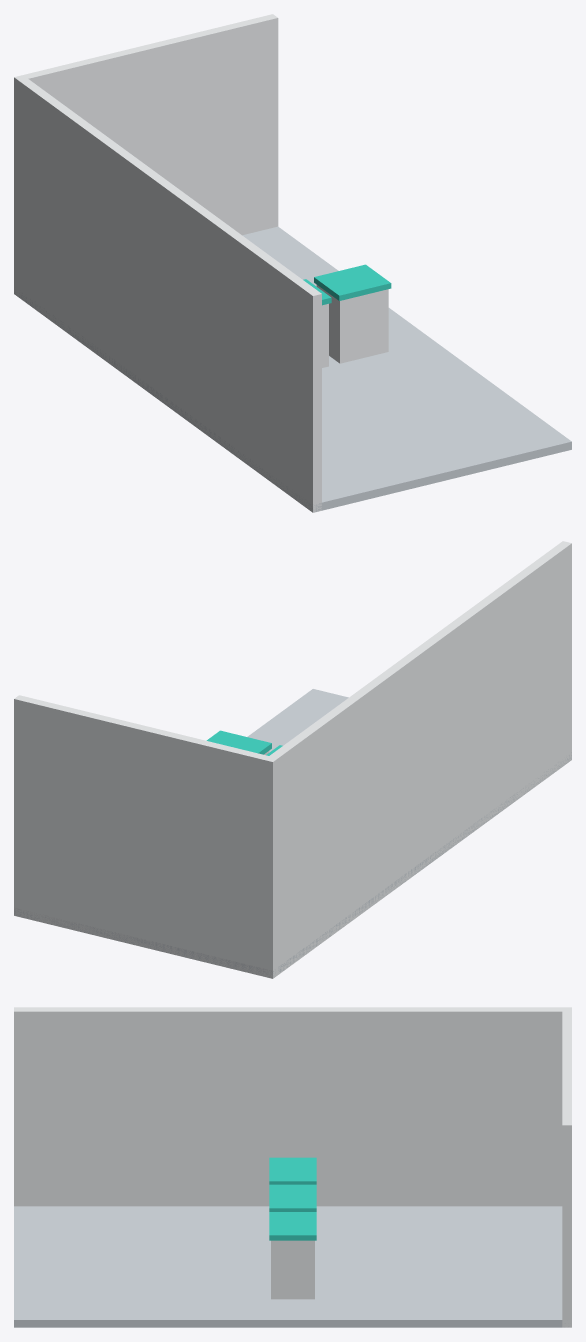
3 views of the same model, one above another, from view 1: azimuth 30°, elevation 25°; view 2: azimuth 150°, elevation 25°; view 3: azimuth 270°, elevation 25° (orthographic). The views are drawn at different scales.
Parts seen in each view (by area): view 1: Exhibition Booth Concept; view 2: Exhibition Booth Concept; view 3: Exhibition Booth Concept.
Boxes of the visible parts, <box> form: Exhibition Booth Concept: <box>14,14,571,512</box>; Exhibition Booth Concept: <box>14,541,571,978</box>; Exhibition Booth Concept: <box>14,1007,571,1327</box>.
Bounding box in the file's own units: 4 × 3.2 × 8.
